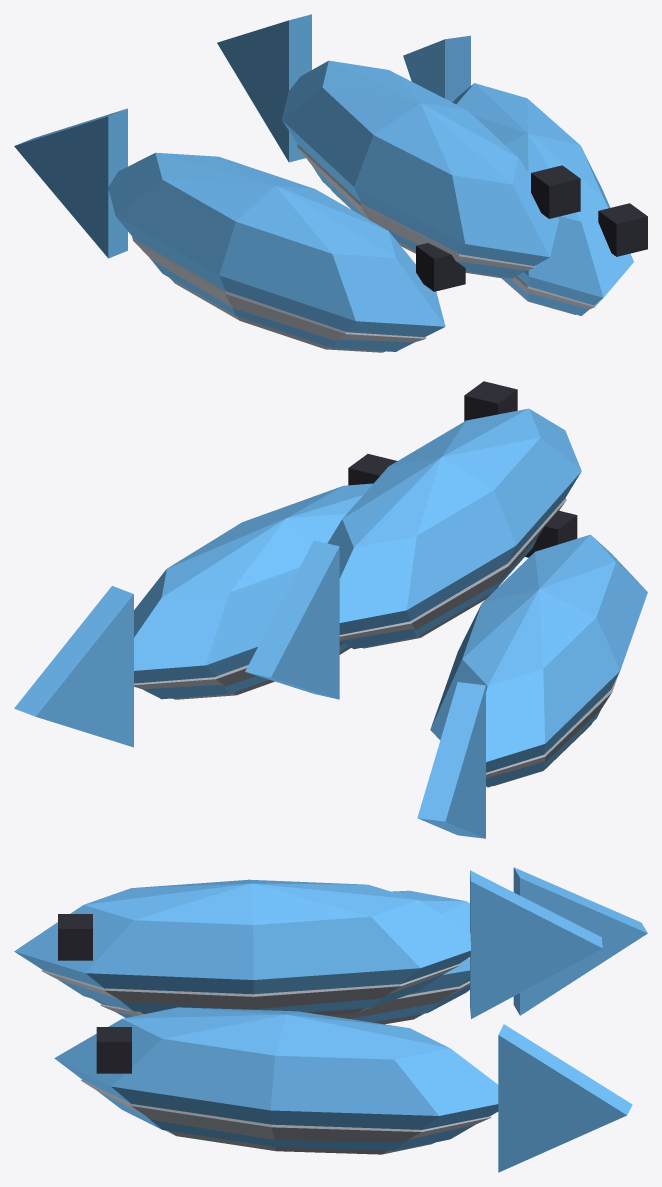
Rendered from CatCafe_Item_Sardines.glb.
The picture shows the model from 3 angles, top to bottom: view 1: azimuth 30°, elevation 25°; view 2: azimuth 150°, elevation 25°; view 3: azimuth 270°, elevation 25°; orthographic projection. The views are drawn at different scales.
Visible parts, largest first — view 1: CatCafe_Item_Sardines; view 2: CatCafe_Item_Sardines; view 3: CatCafe_Item_Sardines.
Boxes of the visible parts, x1,y1,x2,y2 form: CatCafe_Item_Sardines: (14, 14, 647, 352); CatCafe_Item_Sardines: (14, 381, 647, 838); CatCafe_Item_Sardines: (14, 867, 647, 1172).
Size of the model in its own units: 0.5208 by 0.2632 by 0.7216.
Materials: 1 (1 with a texture image).
